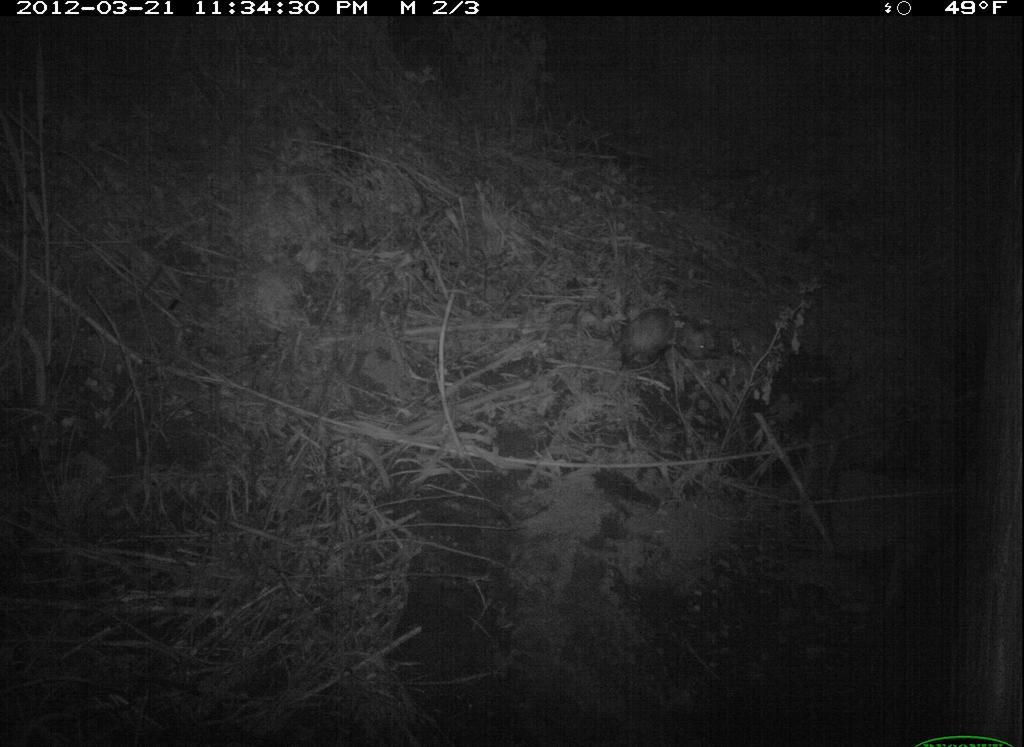opossum: (611, 301, 738, 382)
